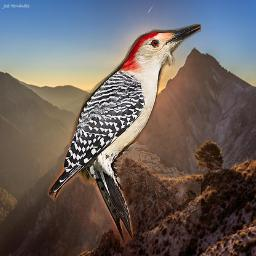Woodpecker: (46, 24, 201, 245)
